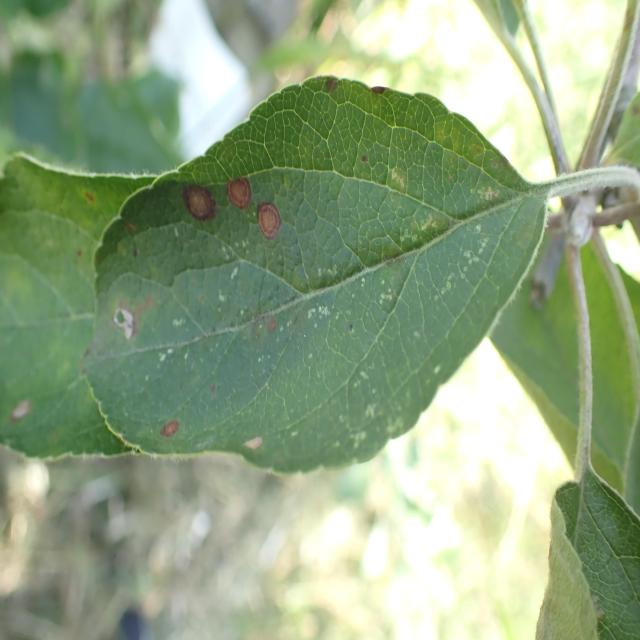frog-eye-leaf-spot: (79, 74, 548, 475), (0, 154, 159, 461)
